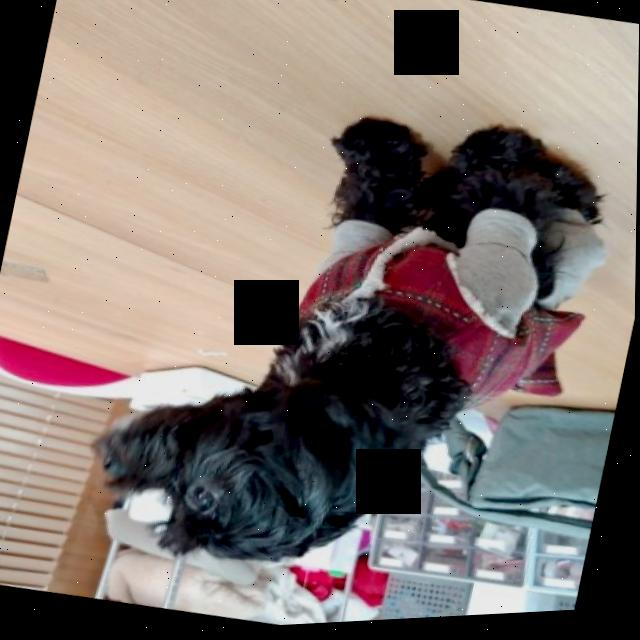cloth: (298, 214, 606, 410)
